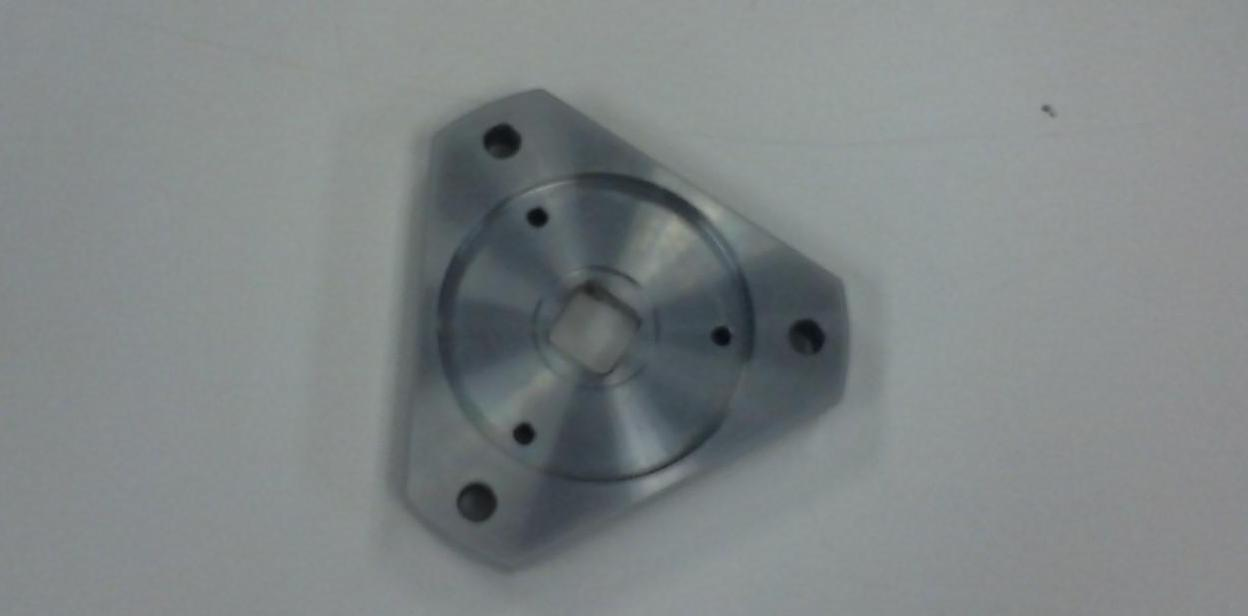hole: (452, 478, 503, 526), (785, 313, 830, 361), (480, 121, 524, 160), (510, 414, 540, 451), (709, 320, 735, 352), (525, 206, 555, 230)
